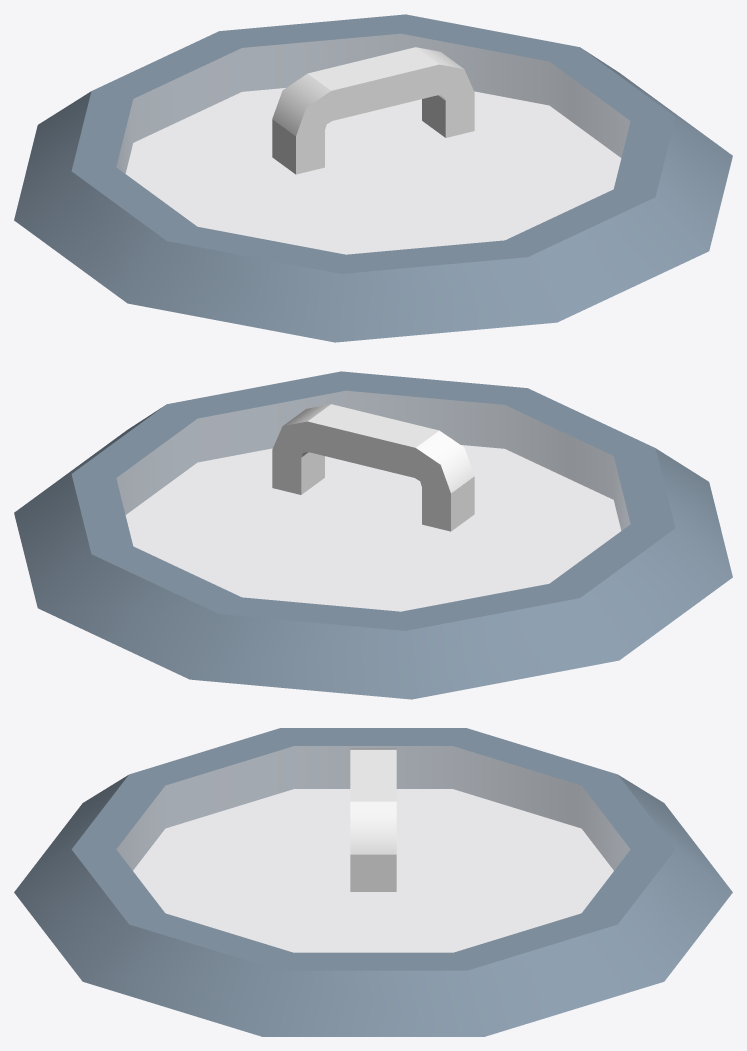
File: fryingPanLid.GLB
The picture shows the model from 3 angles, top to bottom: view 1: azimuth 30°, elevation 25°; view 2: azimuth 150°, elevation 25°; view 3: azimuth 270°, elevation 25°; orthographic projection. The views are drawn at different scales.
Visible parts, largest first — view 1: fryingPanLid; view 2: fryingPanLid; view 3: fryingPanLid.
Part boxes in pixels (x1,y1,x2,y2): fryingPanLid: (14, 14, 732, 342); fryingPanLid: (14, 371, 732, 699); fryingPanLid: (14, 728, 732, 1036).
Size of the model in its own units: 0.5767 by 0.1084 by 0.6064.
